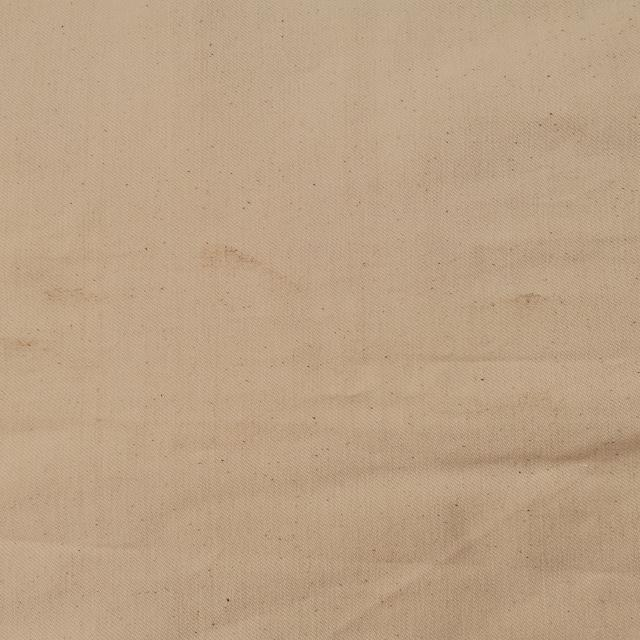taaaches: (197, 243, 304, 296), (29, 278, 110, 312), (498, 288, 558, 314), (0, 328, 52, 353)
